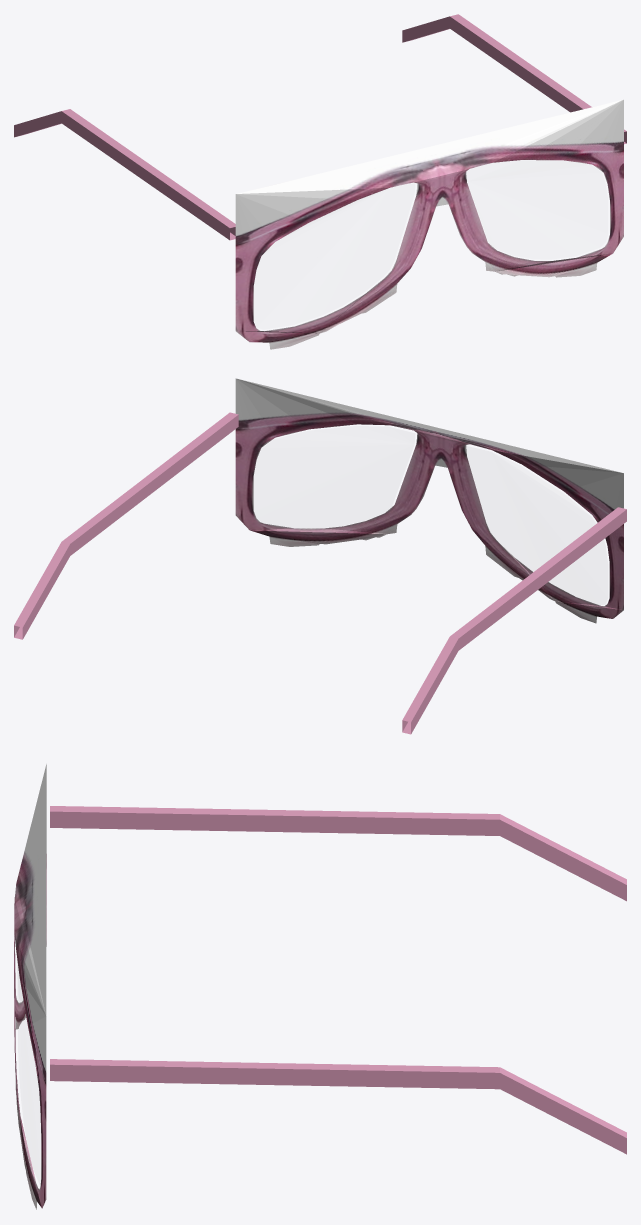
The model's file is gothamstyle-199_lilac.glb.
3 views of the same model, one above another, from view 1: azimuth 30°, elevation 25°; view 2: azimuth 150°, elevation 25°; view 3: azimuth 270°, elevation 25° (orthographic). The views are drawn at different scales.
Parts seen in each view (by area): view 1: frame_front, temple_viewer_left, temple_viewer_right; view 2: frame_front, temple_viewer_right, temple_viewer_left; view 3: temple_viewer_right, temple_viewer_left, frame_front.
Boxes of the visible parts, x1,y1,x2,y2 form: frame_front: (235, 99, 623, 349); temple_viewer_left: (14, 109, 235, 240); temple_viewer_right: (402, 14, 626, 144); frame_front: (235, 378, 623, 623); temple_viewer_right: (14, 412, 238, 639); temple_viewer_left: (402, 507, 626, 734); temple_viewer_right: (50, 1059, 626, 1154); temple_viewer_left: (50, 806, 626, 901); frame_front: (14, 764, 46, 1209).
Bounding box in the file's own units: 0.1359 × 0.0525 × 0.136.
Materials: 3 (2 with a texture image).
